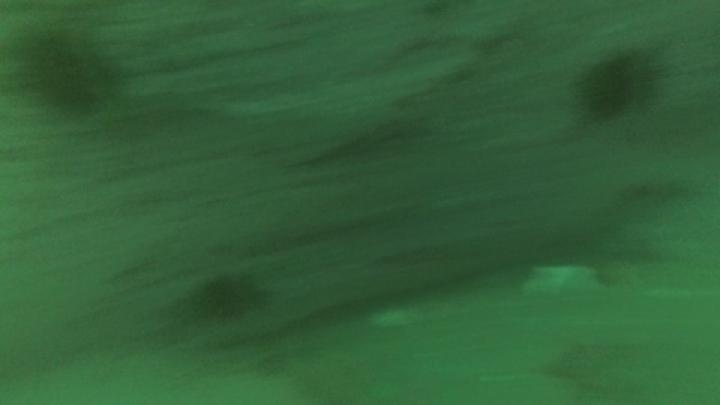echinus: (16, 23, 123, 120), (572, 44, 663, 124), (190, 269, 265, 325)
